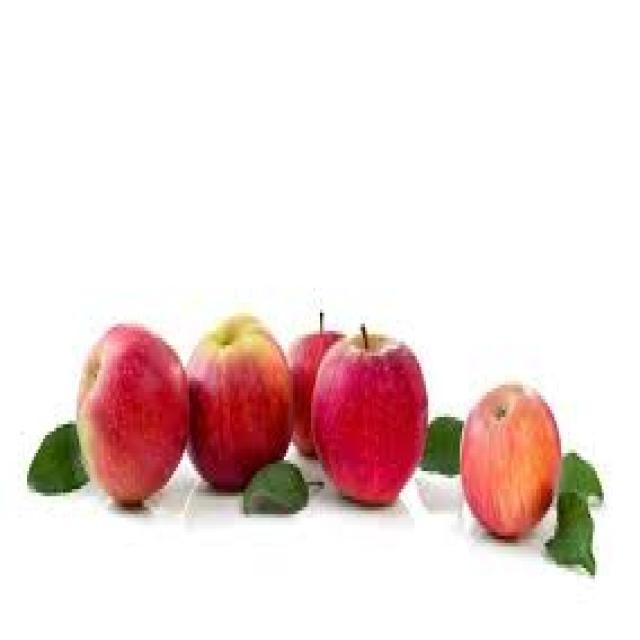agrume: (284, 299, 432, 545), (68, 304, 203, 559), (449, 353, 582, 556), (173, 299, 295, 516), (274, 282, 347, 450)
